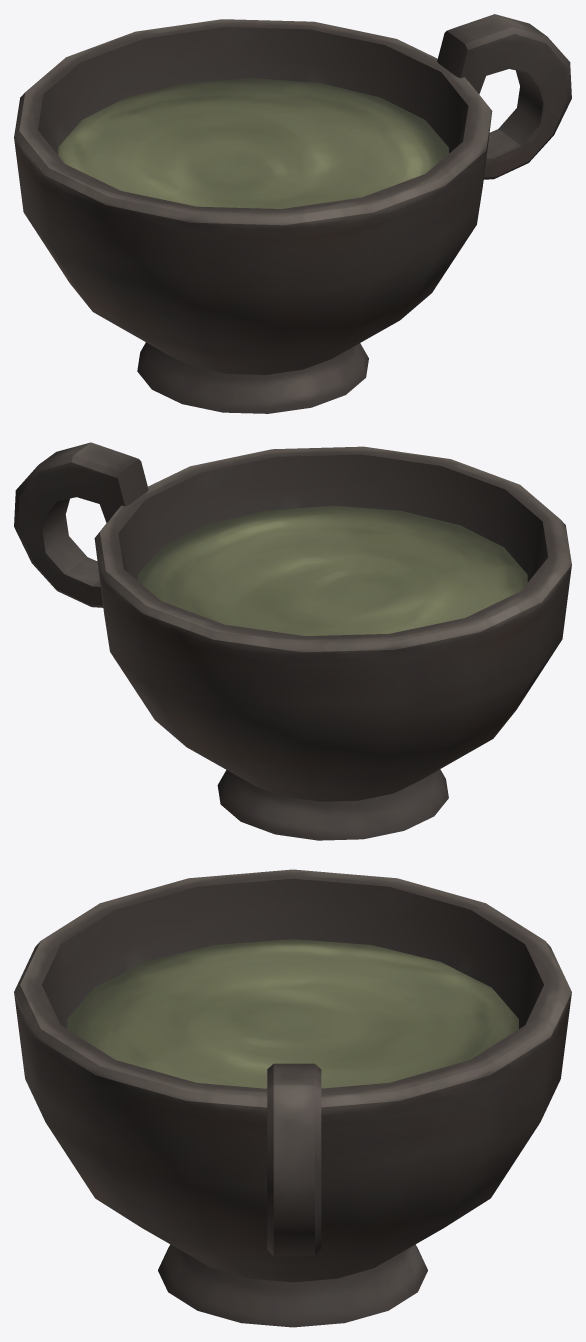
Rendered from Teacup.FBX.
3 views of the same model, one above another, from view 1: azimuth 30°, elevation 25°; view 2: azimuth 150°, elevation 25°; view 3: azimuth 270°, elevation 25° (orthographic). The views are drawn at different scales.
Parts seen in each view (by area): view 1: Teacup; view 2: Teacup; view 3: Teacup.
Part boxes in pixels (x1,y1,x2,y2): Teacup: (14,14,571,413); Teacup: (14,442,571,840); Teacup: (14,869,571,1327).
Size of the model in its own units: 64.39 by 33.48 by 51.8.
